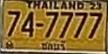4: (21, 11, 33, 36)
7: (7, 10, 20, 36), (88, 12, 101, 38), (74, 12, 87, 38), (59, 11, 72, 37), (46, 11, 58, 37)
CBI: (41, 40, 67, 51)
